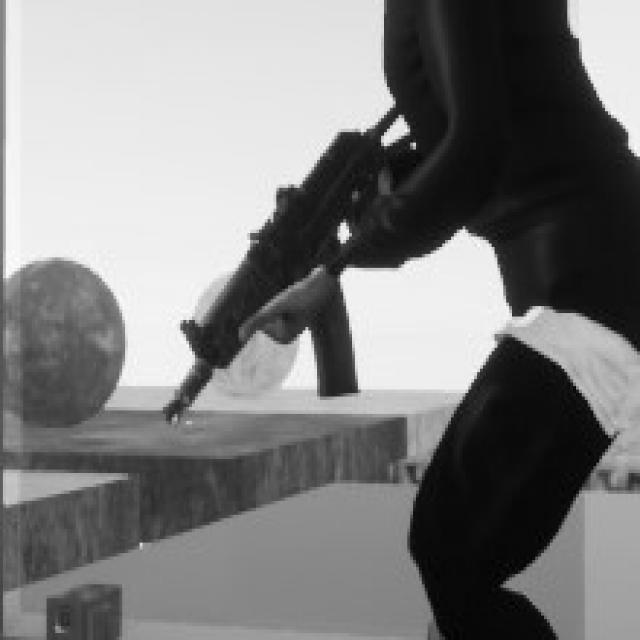weapon: (164, 100, 408, 428)
